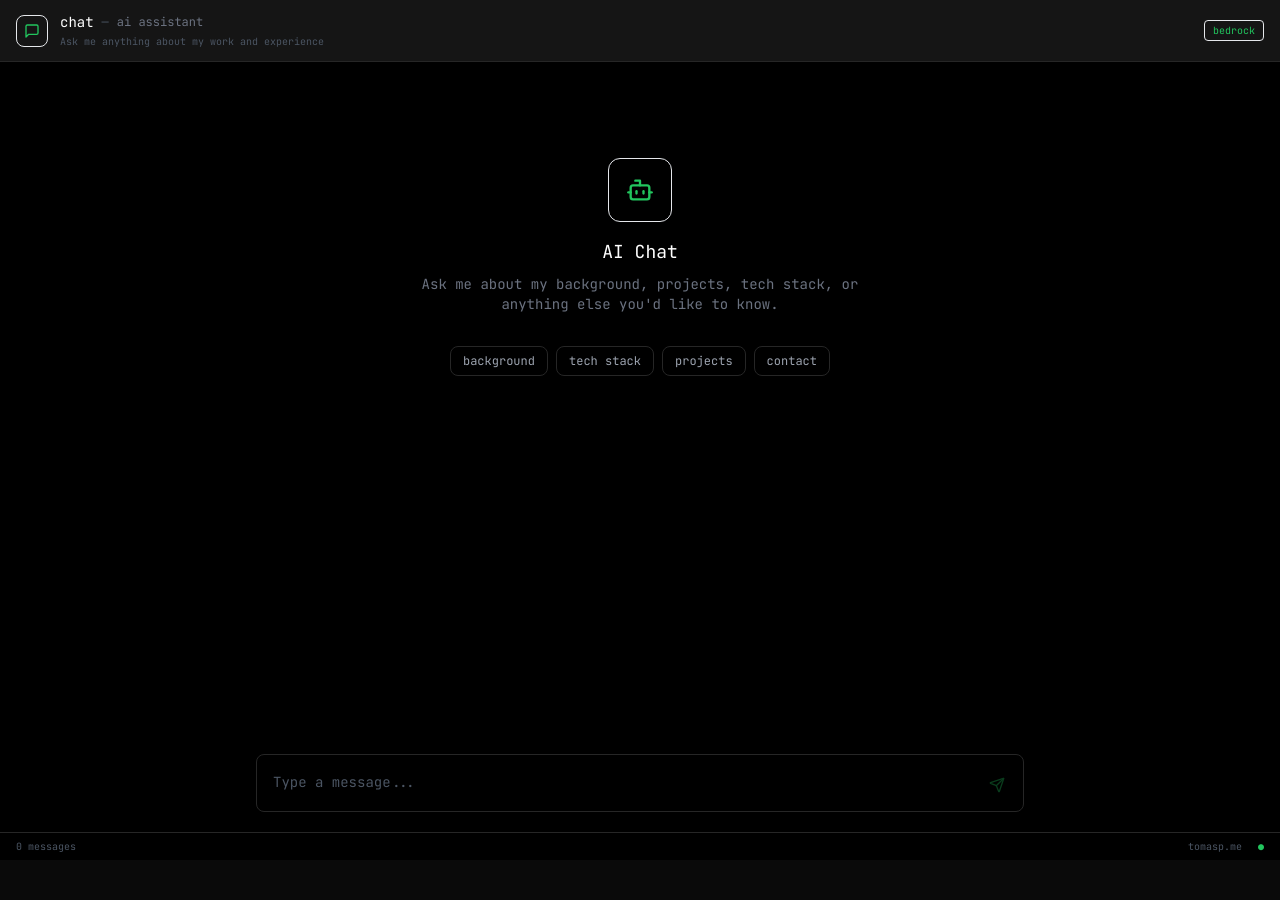
Test: ChatMe AGUI integration › renders assistant text and tool card from an AGUI stream
Type "what projects have you built?" into the text box with placeholder "Type a message..." at x=618, y=783, box [265,763,971,803]
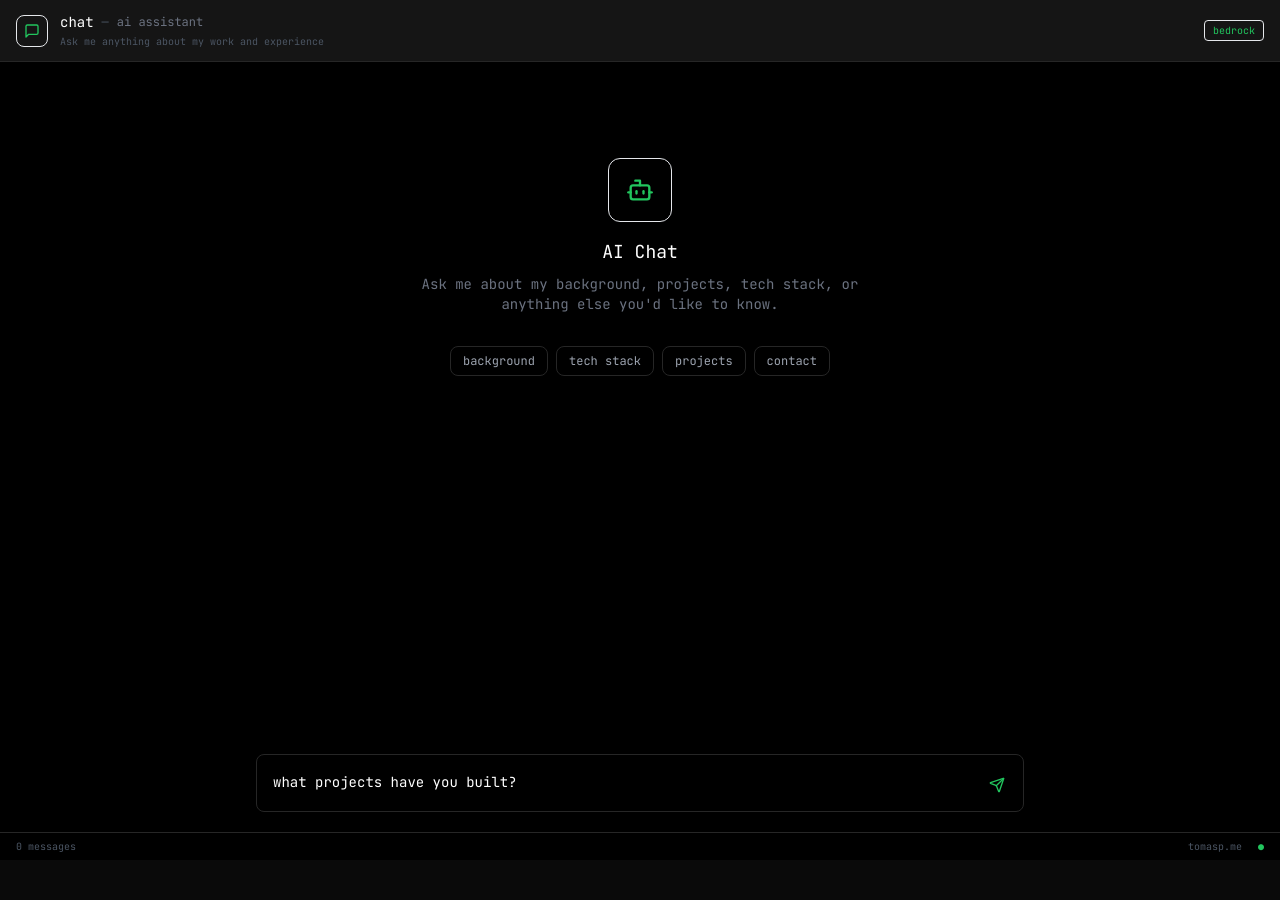
Press Enter in the text box with placeholder "Type a message...", box [265,763,971,803]
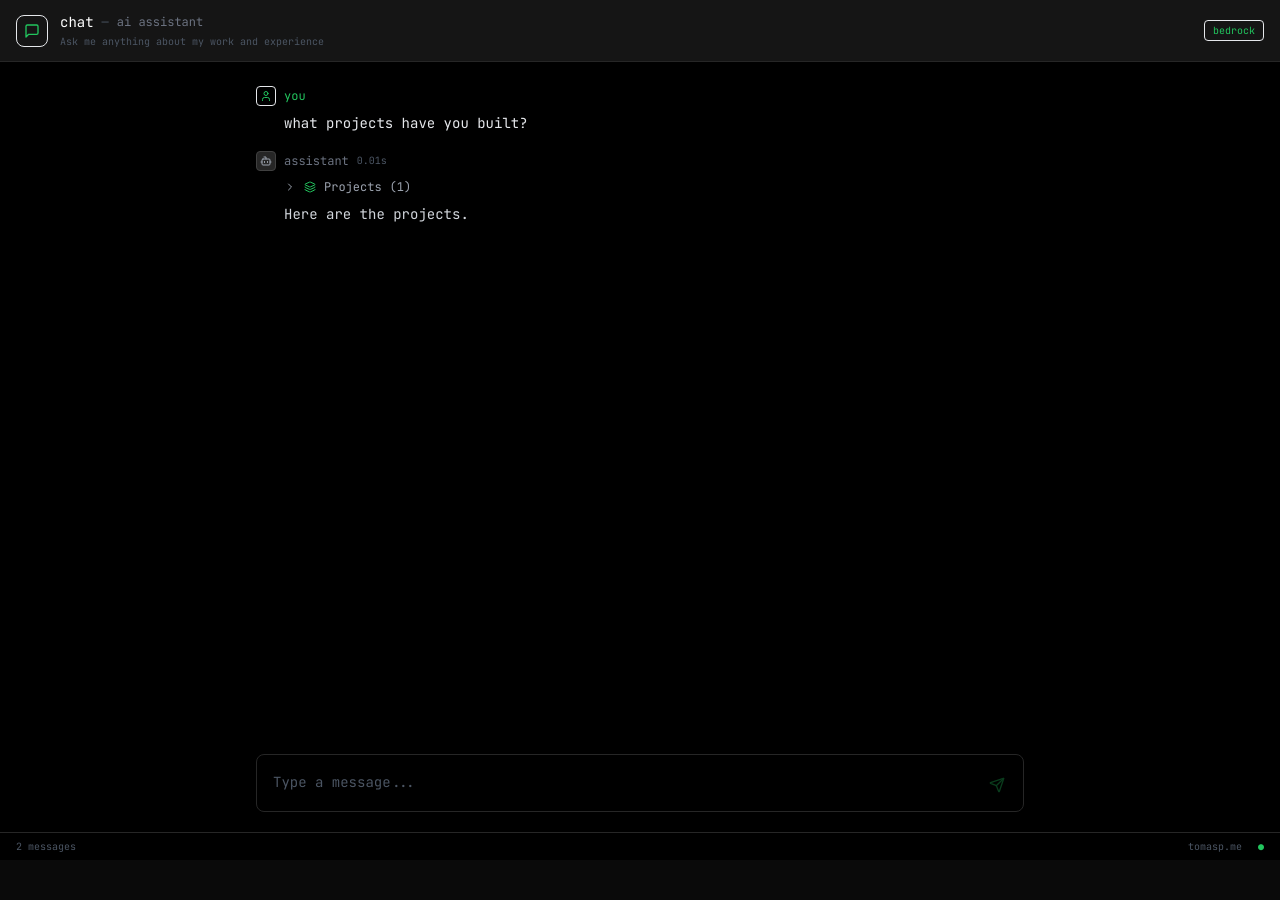
Result: the text "Here are the projects." is shown at [284,205,469,223]
Result: the text "Projects" is shown at [324,179,382,195]
Result: the text "(1)" is shown at [390,179,411,195]
